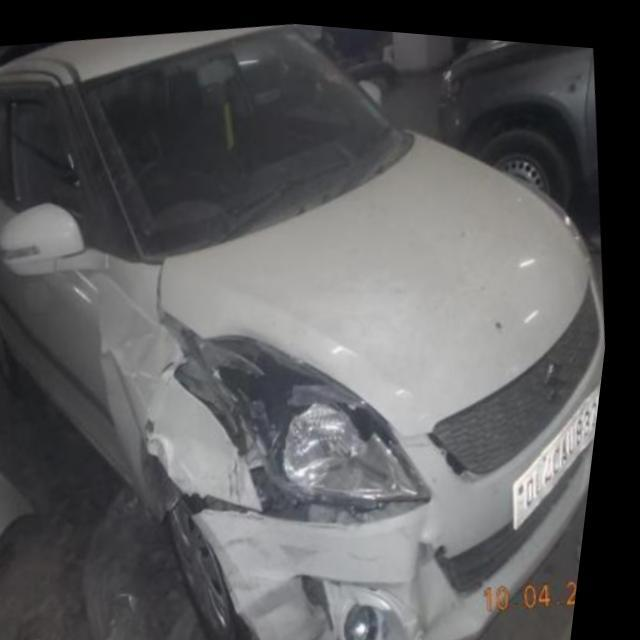dent: (96, 264, 453, 640)
lamp broken: (192, 334, 446, 521)
